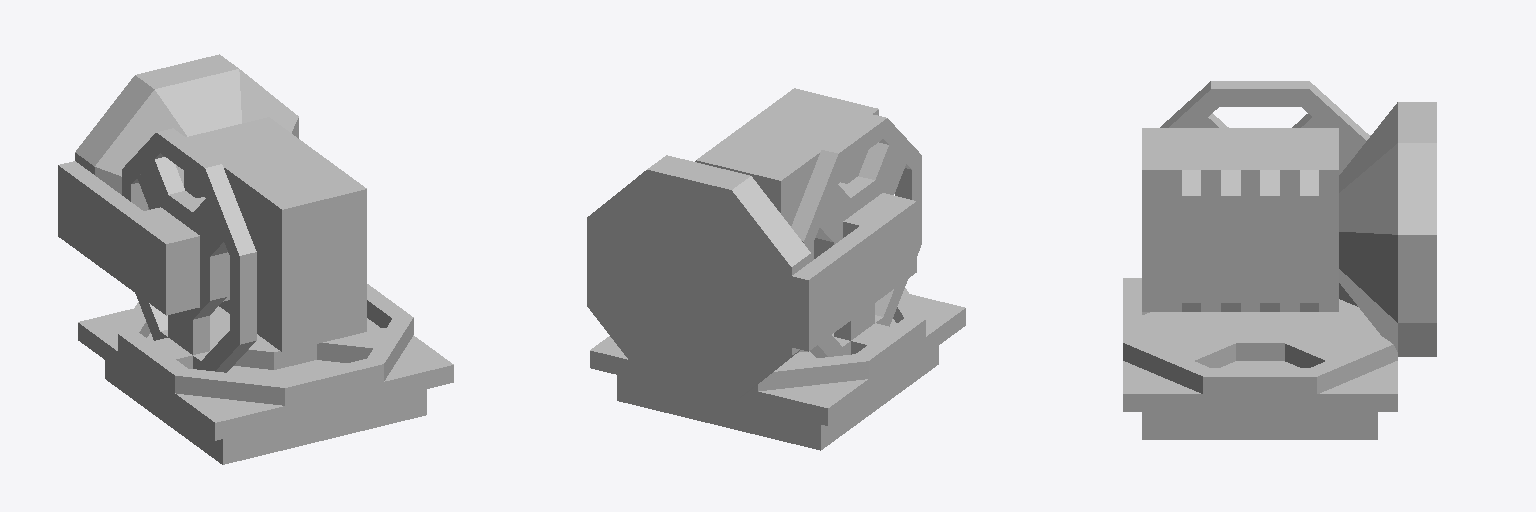
Rendered from searchlight.obj.
The picture shows the model from 3 angles: view 1: azimuth 30°, elevation 25°; view 2: azimuth 150°, elevation 25°; view 3: azimuth 270°, elevation 25°; orthographic projection.
Parts seen in each view (by area): view 1: light, gear0, base; view 2: light, gear0, base; view 3: light, gear0, base.
Part boxes in pixels (bbox=[...]): light: bbox=[58, 54, 366, 351]; gear0: bbox=[118, 128, 413, 405]; base: bbox=[78, 306, 453, 464]; light: bbox=[587, 88, 916, 403]; gear0: bbox=[752, 114, 925, 391]; base: bbox=[590, 294, 965, 450]; light: bbox=[1142, 102, 1436, 356]; gear0: bbox=[1123, 81, 1397, 393]; base: bbox=[1123, 278, 1397, 439].
Bounding box in the file's own units: 0.875 × 0.9375 × 1.